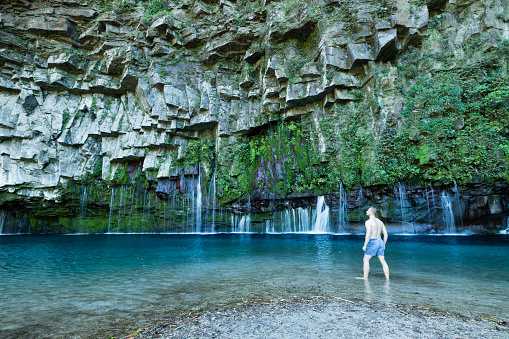em pe: (350, 202, 396, 289)
